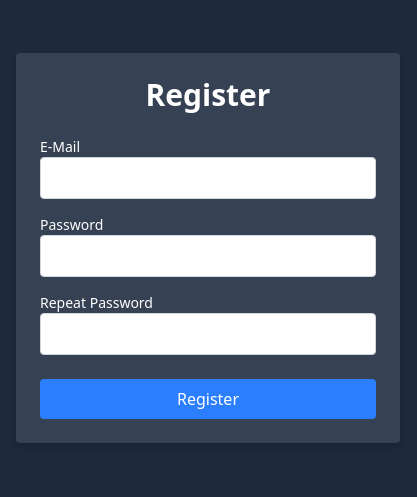
Test: Register Component › handles login failure after successful registration
This screenshot has width=417, height=497.
// Fill form
Type "test@example.com" into the field labelled "E-Mail" at (208, 178), box top-left (40, 157), bottom-right (376, 199)
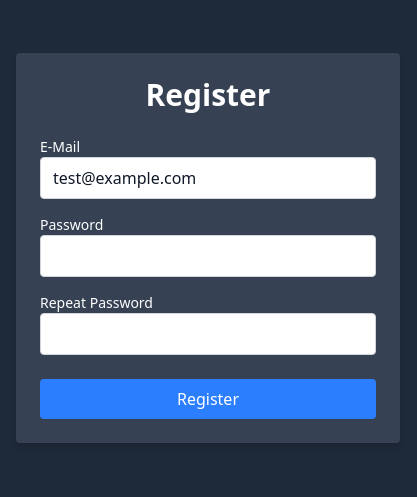
Type "password123" into the password field labelled "Password" at (208, 256), box top-left (40, 235), bottom-right (376, 277)
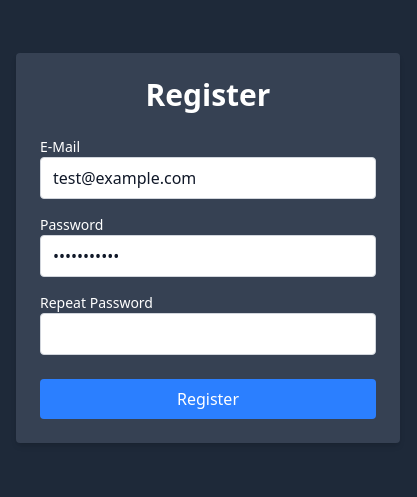
Type "password123" into the password field labelled "Repeat Password" at (208, 334), box top-left (40, 313), bottom-right (376, 355)
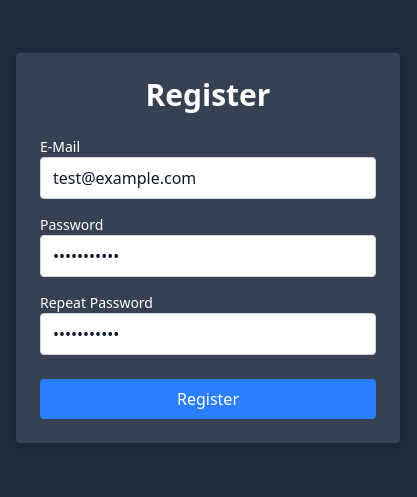
// Submit form
Click the button "Register" at (208, 399), box top-left (40, 379), bottom-right (376, 419)
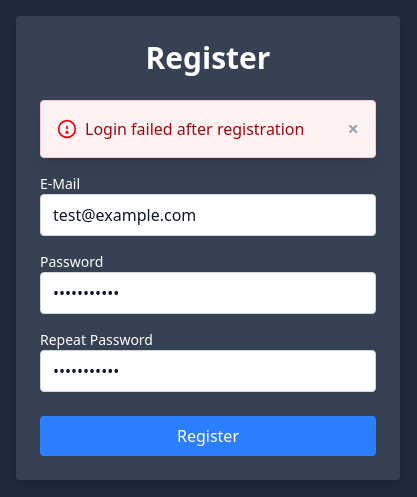
Check: the text "Login failed after registration" is shown, box top-left (85, 118), bottom-right (304, 140)
